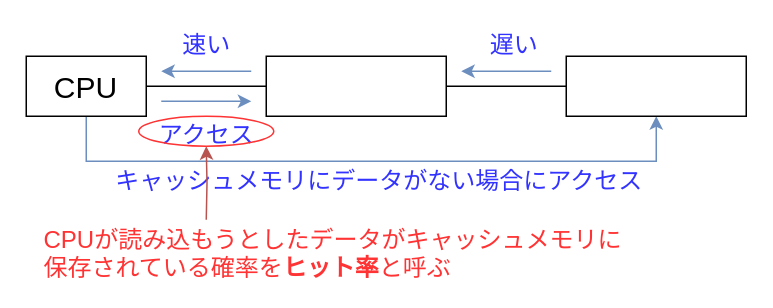
Some shapes in this 773 by 308 pixel diagram are drawn without their labels. Here are the shapes that lost their labels. From the top down, the centre of each, then its label:
(355,85): キャッシュ メモリ
(655,85): 主記憶 装置
